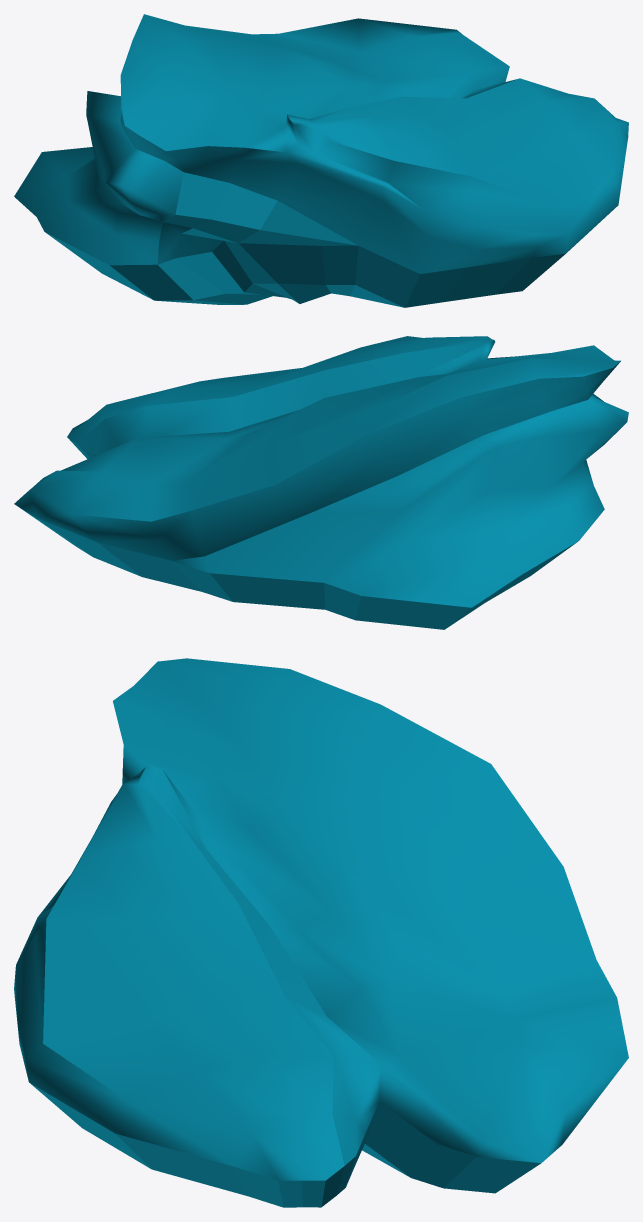
File: BgMD_IR_Rock_001_Low.fbx
3 renders of one model, top to bottom at view 1: azimuth 30°, elevation 25°; view 2: azimuth 150°, elevation 25°; view 3: azimuth 270°, elevation 25°, orthographic. The views are drawn at different scales.
Visible parts, largest first — view 1: BgMD_Rock_001; view 2: BgMD_Rock_001; view 3: BgMD_Rock_001.
Boxes of the visible parts, x1,y1,x2,y2 form: BgMD_Rock_001: (14,14,628,307); BgMD_Rock_001: (14,336,628,629); BgMD_Rock_001: (14,658,628,1207).
Bounding box in the file's own units: 756 × 309 × 586.
